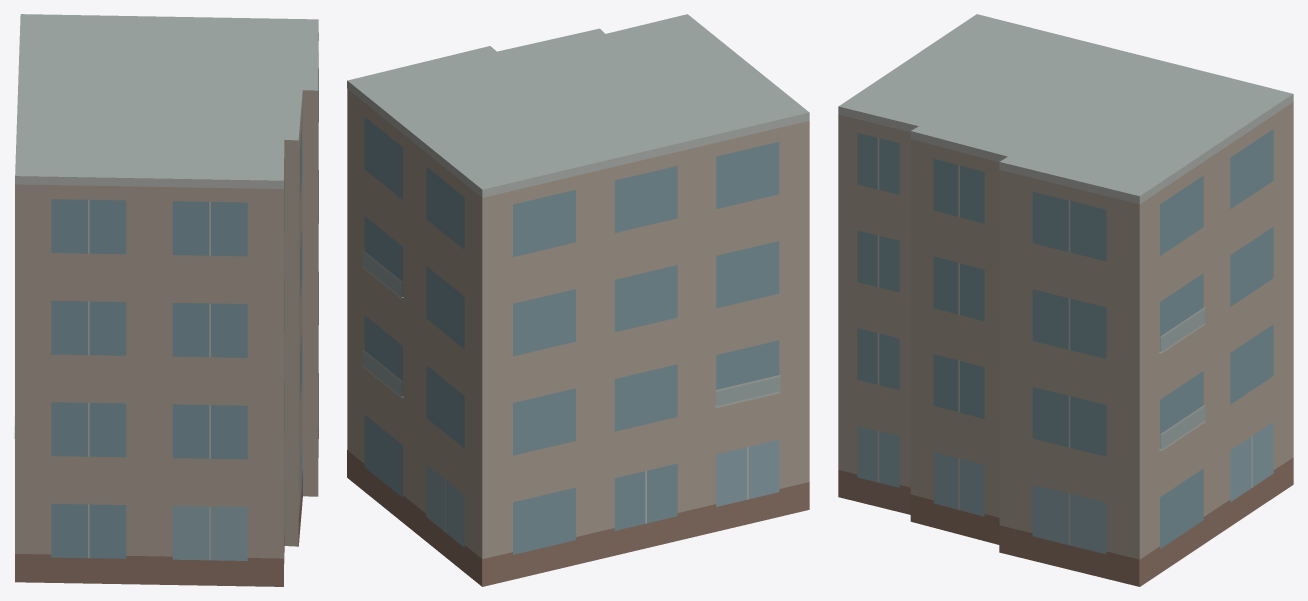
File: survey-upis-32720159.glb
3 renders of one model, left to right at view 1: azimuth 30°, elevation 25°; view 2: azimuth 150°, elevation 25°; view 3: azimuth 270°, elevation 25°, orthographic. The views are drawn at different scales.
Visible parts, largest first — view 1: survey-upis-32720159.tmp; view 2: survey-upis-32720159.tmp; view 3: survey-upis-32720159.tmp.
Boxes of the visible parts, <box> form: survey-upis-32720159.tmp: <box>14,14,318,586</box>; survey-upis-32720159.tmp: <box>347,14,809,586</box>; survey-upis-32720159.tmp: <box>838,14,1293,586</box>.
Size of the model in its own units: 11.92 by 11.9 by 12.58.
